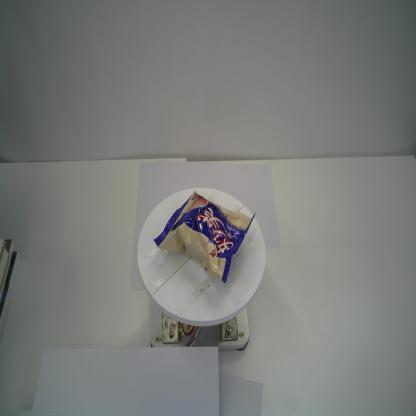Dessert: (152, 189, 257, 285)
